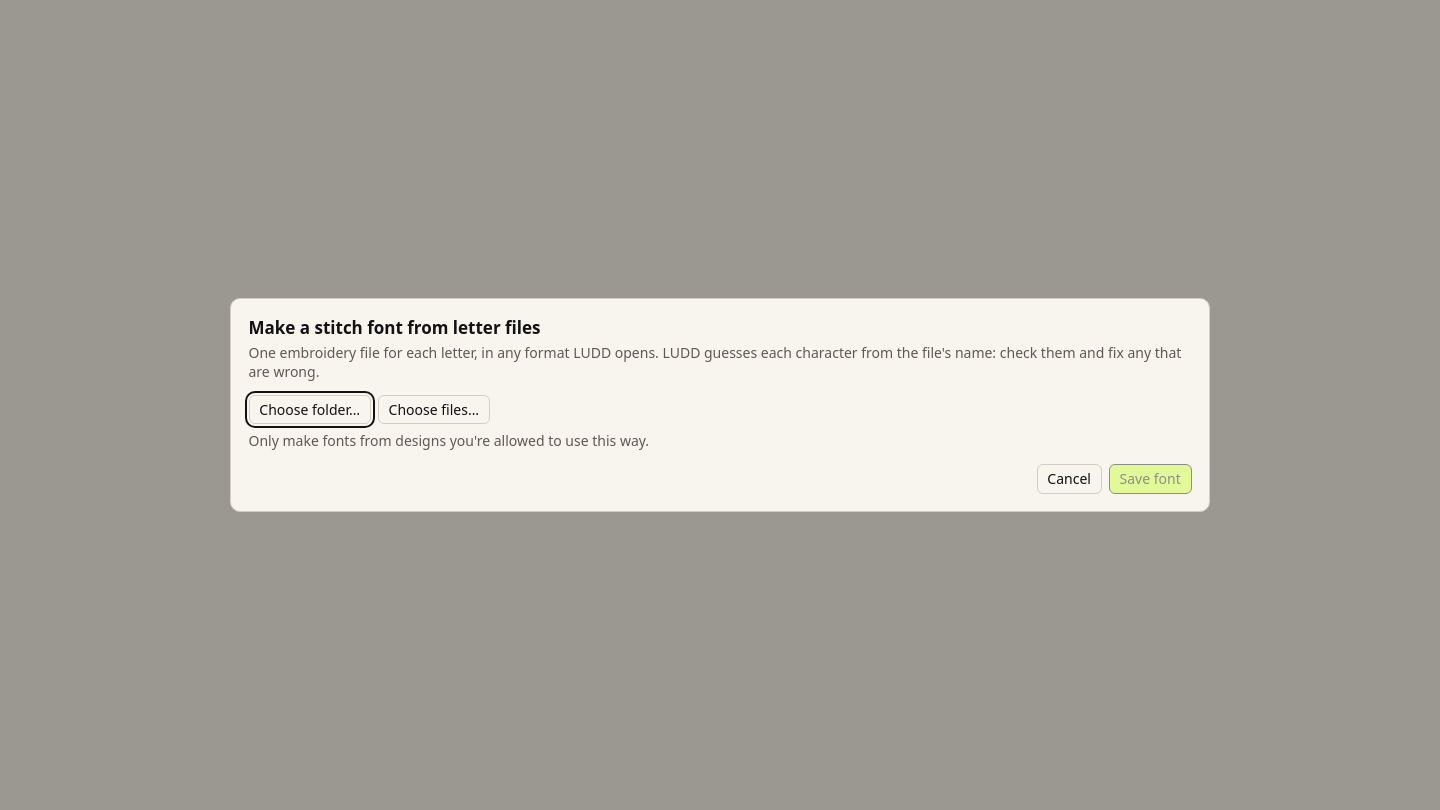
Test: make a stitch font from letter files › says why the files couldn't be read
Click the button "Choose folder…" at x=310, y=410, box [248,395,371,424]
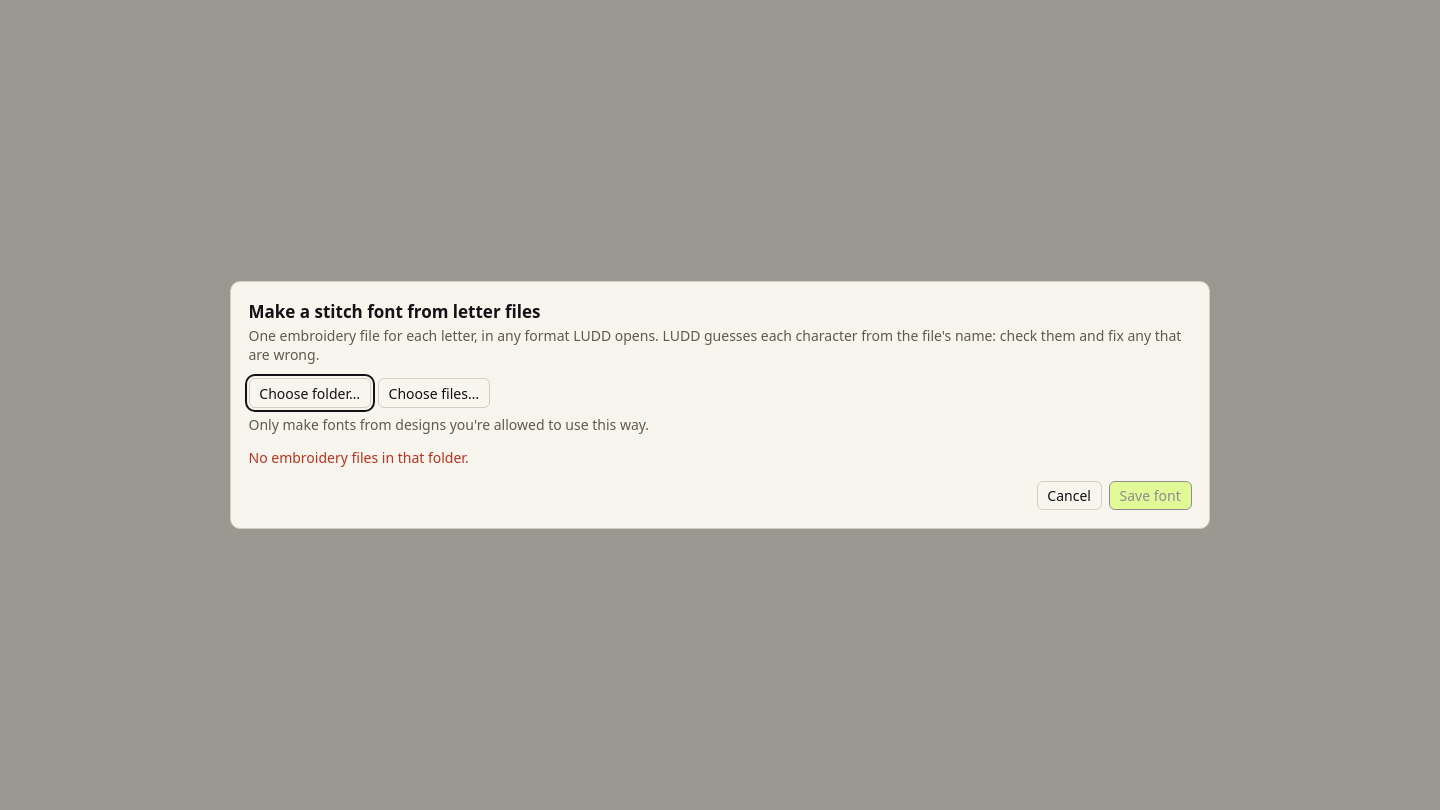
Expected: the button "Save font" is disabled, [1109,481,1192,510]
Result: the dialog shows "No embroidery files in that folder." at [248,448,469,467]
